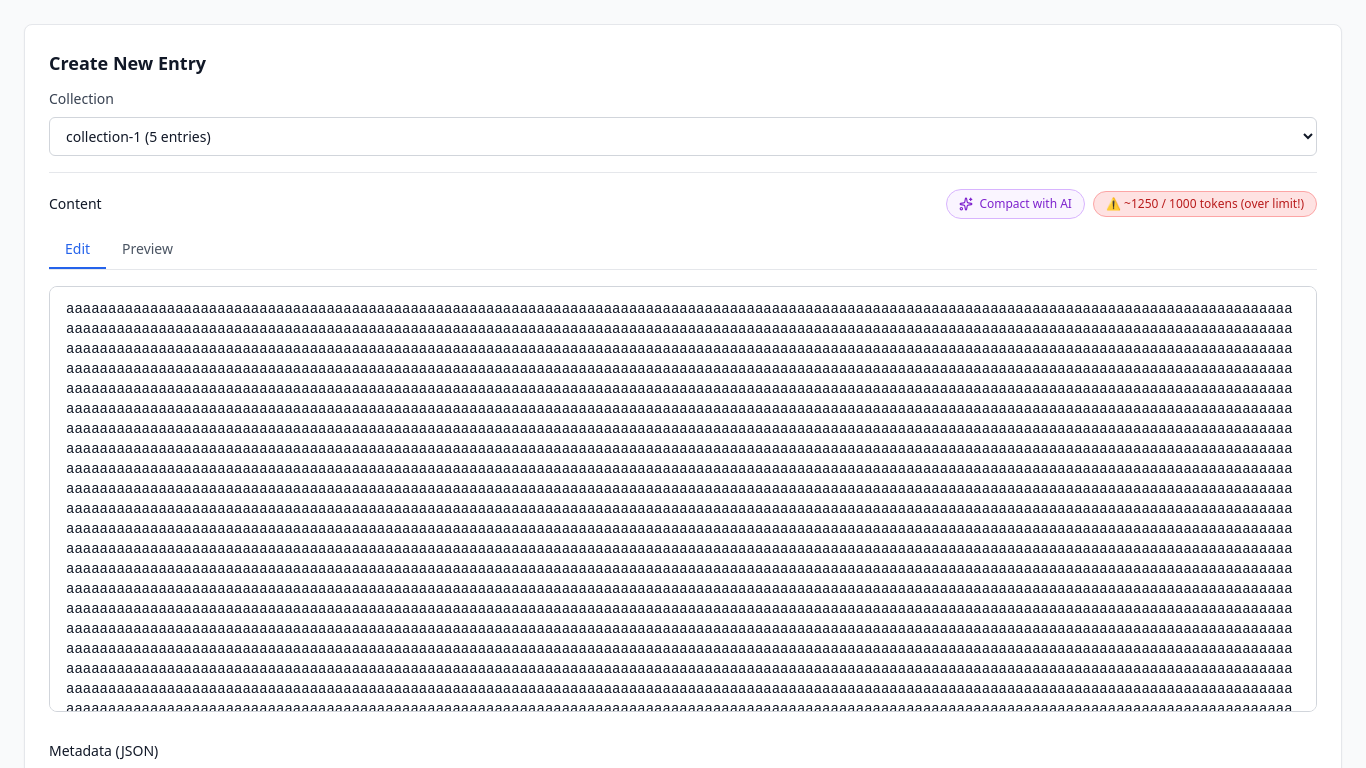
Scenario: ArticleEditor › AI Compacting › should update text with compacted content on success
Click the button "Compact with AI" at (1016, 204), box [946,189,1085,219]
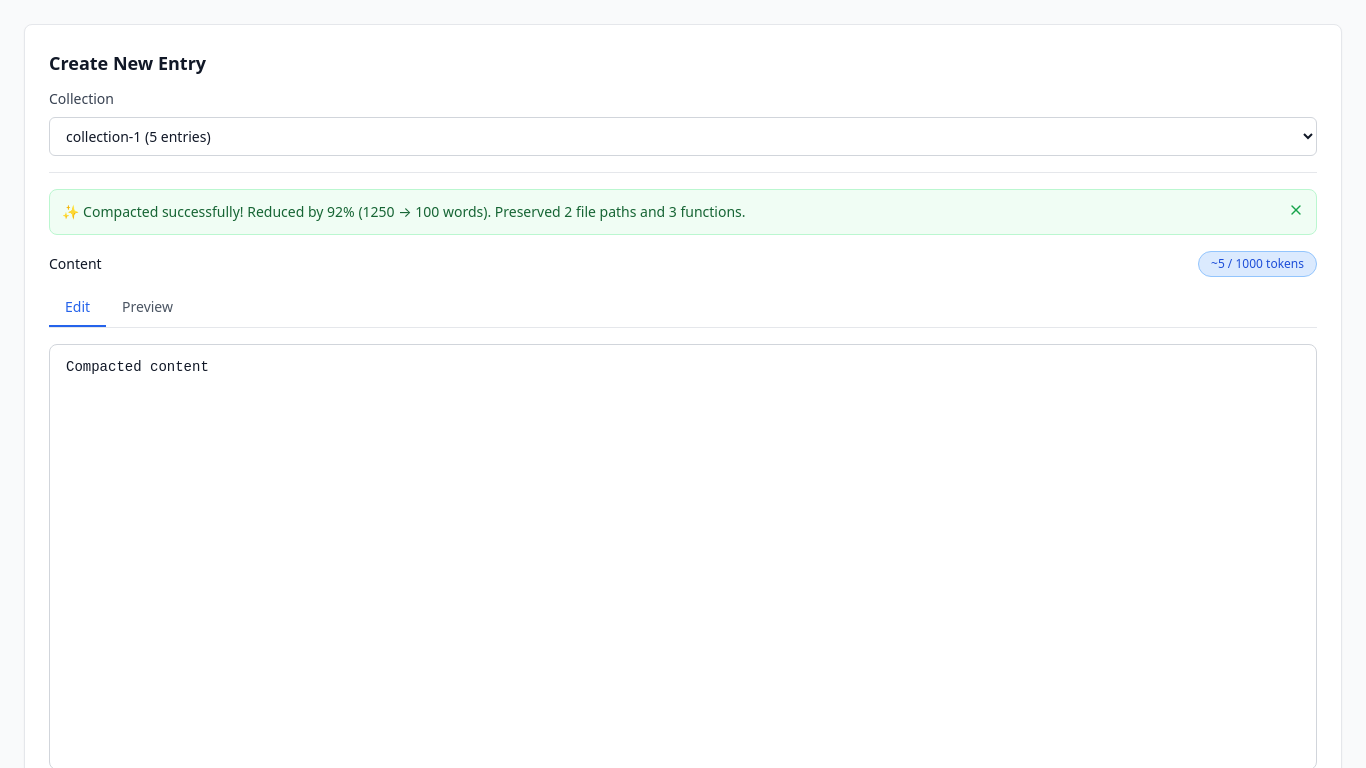
Now the text "Reduced by 92%" is shown, box [62,202,746,221]
